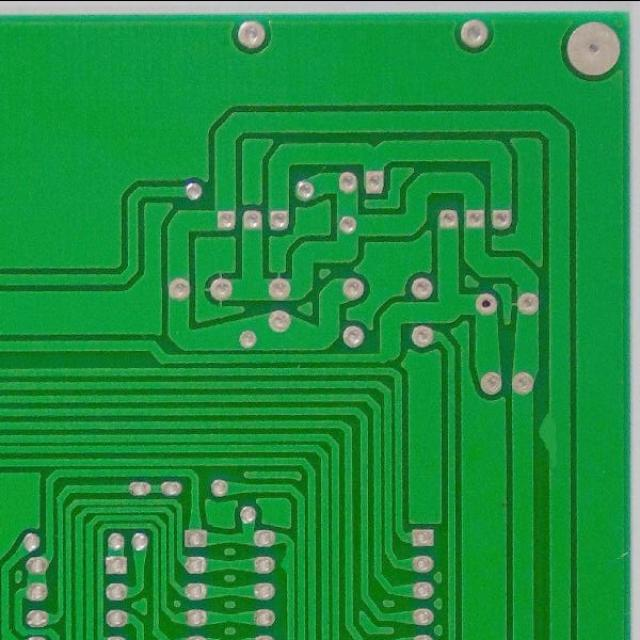Missing_Hole: (474, 291, 499, 316)
Spur: (533, 405, 577, 459), (277, 552, 298, 578)
